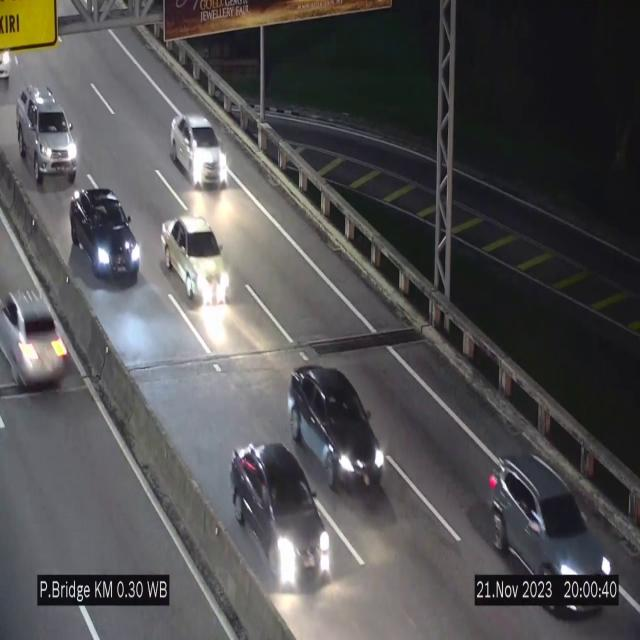Car: (487, 453, 617, 612), (230, 442, 331, 595), (288, 366, 387, 490), (0, 274, 65, 396), (159, 210, 235, 309), (70, 187, 142, 281), (16, 85, 78, 187), (170, 114, 228, 186)
